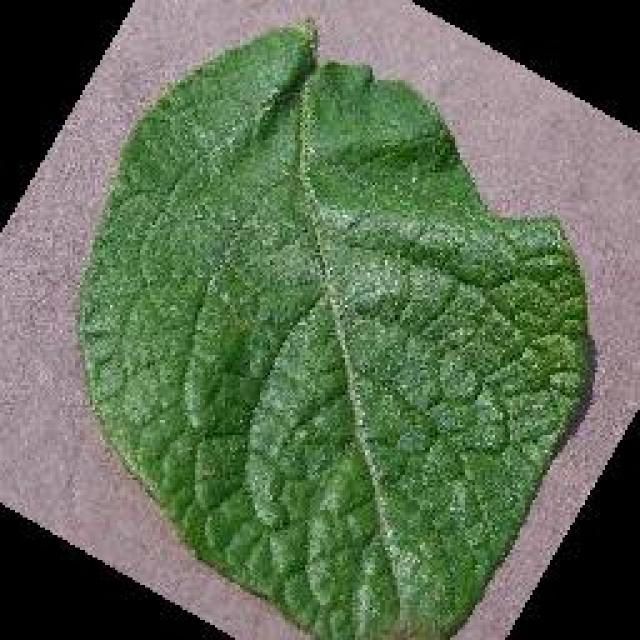Potato___healthy: (79, 28, 589, 638)
